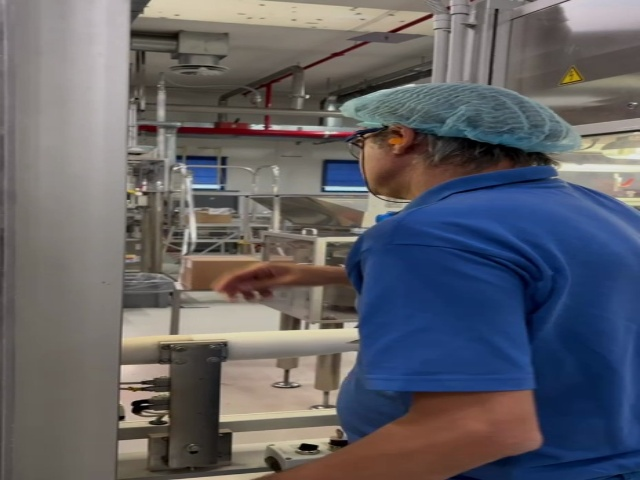Earplug: (385, 126, 414, 159)
Hairnet: (343, 81, 573, 153)
No_Helmet: (341, 81, 570, 142)
No_Vest: (357, 187, 640, 480)
Person: (338, 77, 640, 480)
Safety_Goggles: (346, 125, 389, 152)
